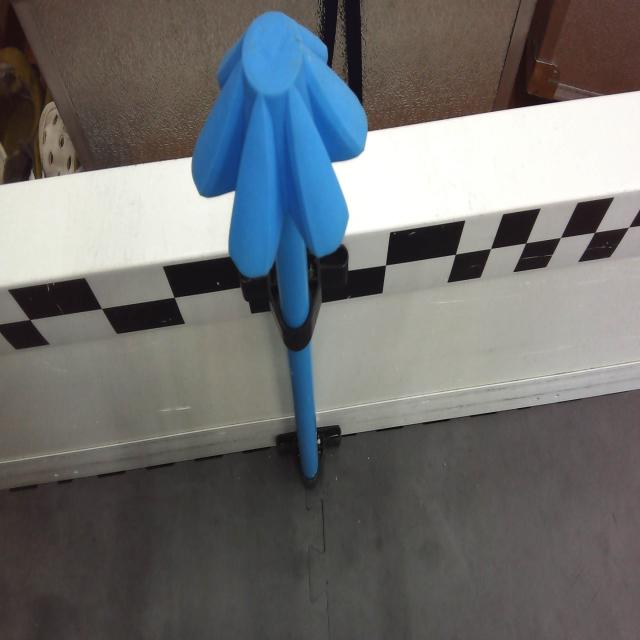zblue-Stake-Head: (191, 9, 368, 276)
